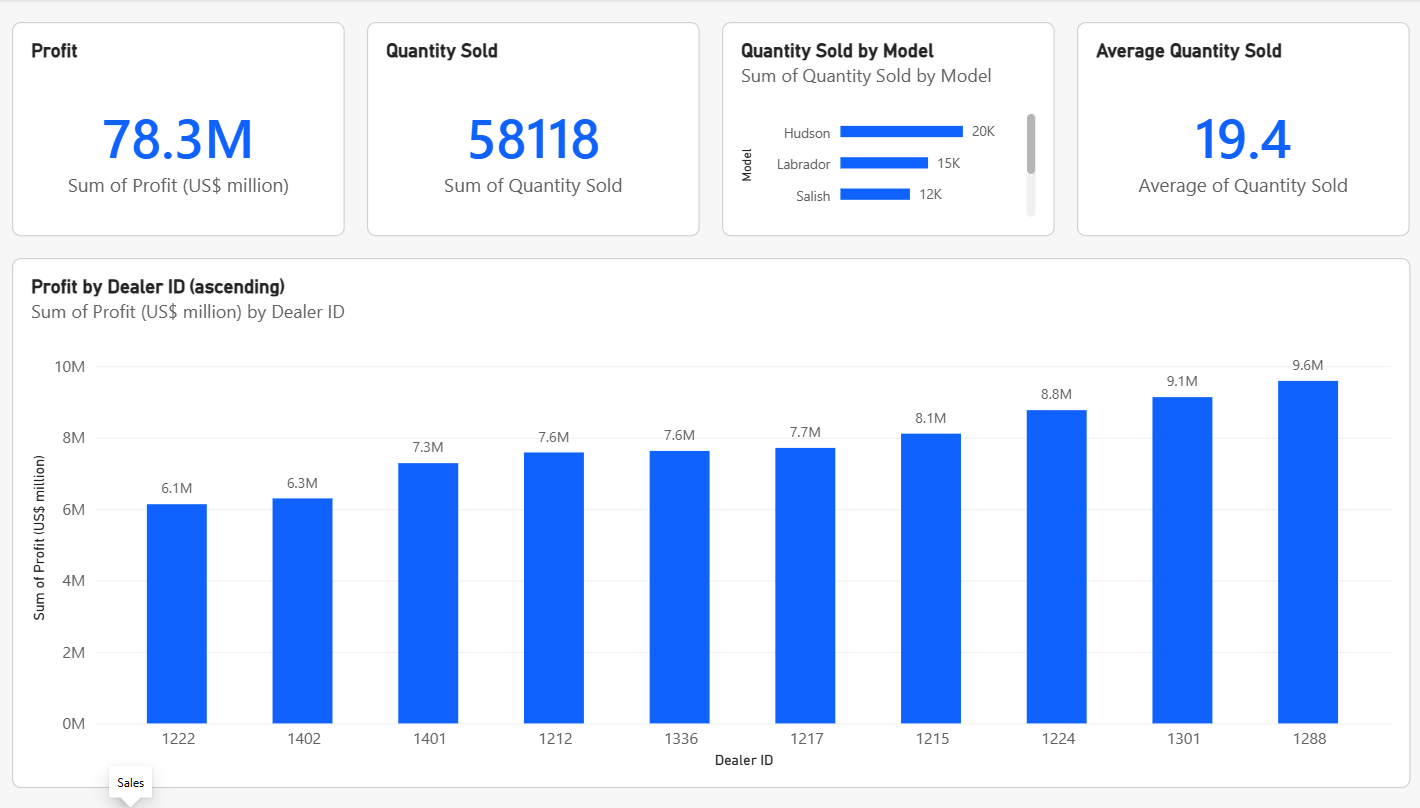

Layout of this report page (visuals, bound fields, positions):
{"tool":"powerbi","page":{"name":"Sales","canvas":[1280,720],"ordinal":0},"visuals":[{"type":"card","title":"Profit","fields":{"Values":["Sum(sales_by_model.Profit)"]},"box":[20,20,295,190],"z":0},{"type":"card","title":"Quantity Sold","fields":{"Values":["Sum(sales_by_model.Quantity Sold)"]},"box":[335,20,295,190],"z":1000},{"type":"clusteredBarChart","title":"Quantity Sold by Model","fields":{"Category":["sales_by_model.Model"],"Y":["Sum(sales_by_model.Quantity Sold)"]},"box":[650,20,295,190],"z":2000},{"type":"card","title":"Average Quantity Sold","fields":{"Values":["Avg(sales_by_model.Quantity Sold)"]},"box":[965,20,295,190],"z":3000},{"type":"clusteredColumnChart","title":"Profit by Dealer ID (ascending)","fields":{"Category":["sales_by_model.Dealer ID"],"Y":["Sum(sales_by_model.Profit)"]},"box":[20,230,1240,470],"z":4000}]}

Visuals, with their boxes in screenshot pixels (x1, y1, x2, y2), scaled from the page's 1280x720 canvas onto the 1420x808 screenshot:
"Profit" card: <box>22,22,349,236</box>
"Quantity Sold" card: <box>372,22,699,236</box>
"Quantity Sold by Model" clusteredBarChart: <box>721,22,1048,236</box>
"Average Quantity Sold" card: <box>1071,22,1398,236</box>
"Profit by Dealer ID (ascending)" clusteredColumnChart: <box>22,258,1398,786</box>
